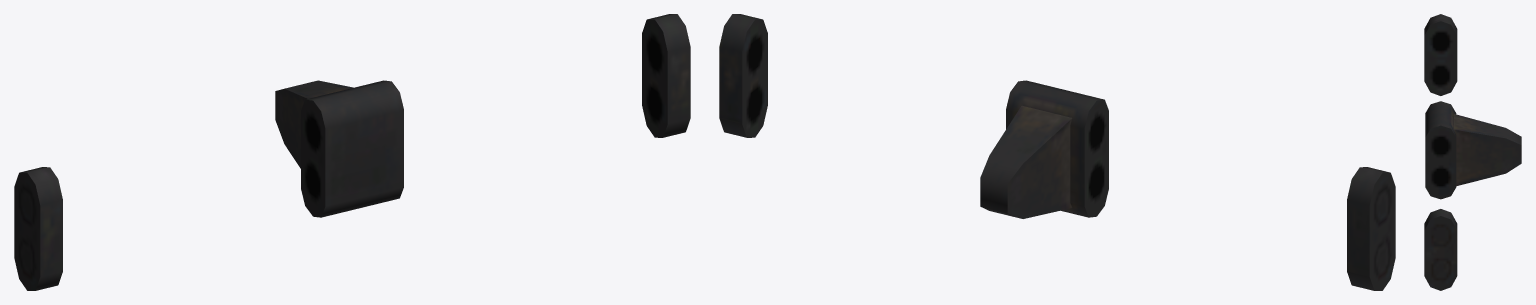
3 views of the same model, side by side, from view 1: azimuth 30°, elevation 25°; view 2: azimuth 150°, elevation 25°; view 3: azimuth 270°, elevation 25° (orthographic). The views are drawn at different scales.
Parts seen in each view (by area): view 1: set_0_group_0; view 2: set_0_group_0; view 3: set_0_group_0.
Boxes of the visible parts, x1,y1,x2,y2 form: set_0_group_0: (14,14,690,290); set_0_group_0: (719,14,1395,290); set_0_group_0: (1424,14,1521,290).
Size of the model in its own units: 0.6793 by 0.1203 by 0.1383.
Materials: 1 (1 with a texture image).
